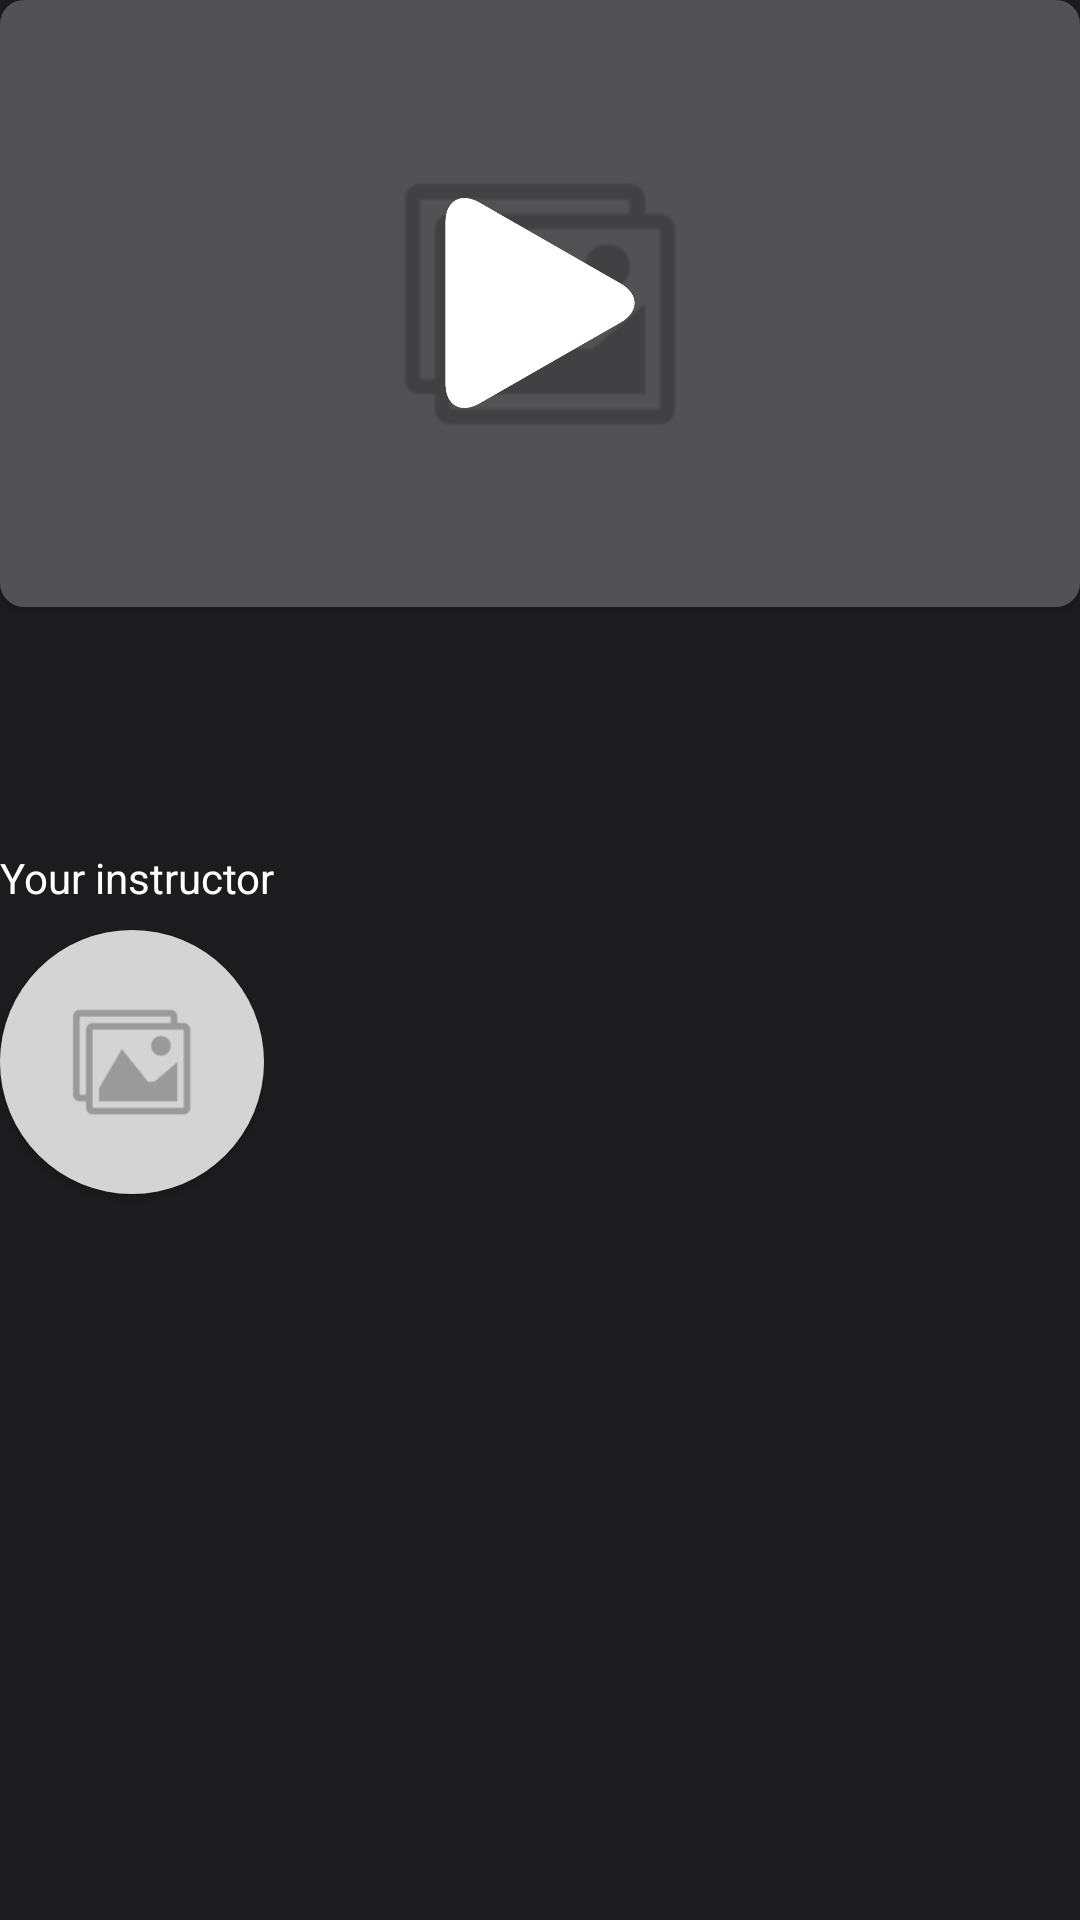

Where icons sit on this 1080×1920 app screen, as (x1, y1, x2, y2):
Play icon: (445, 198, 635, 408)
